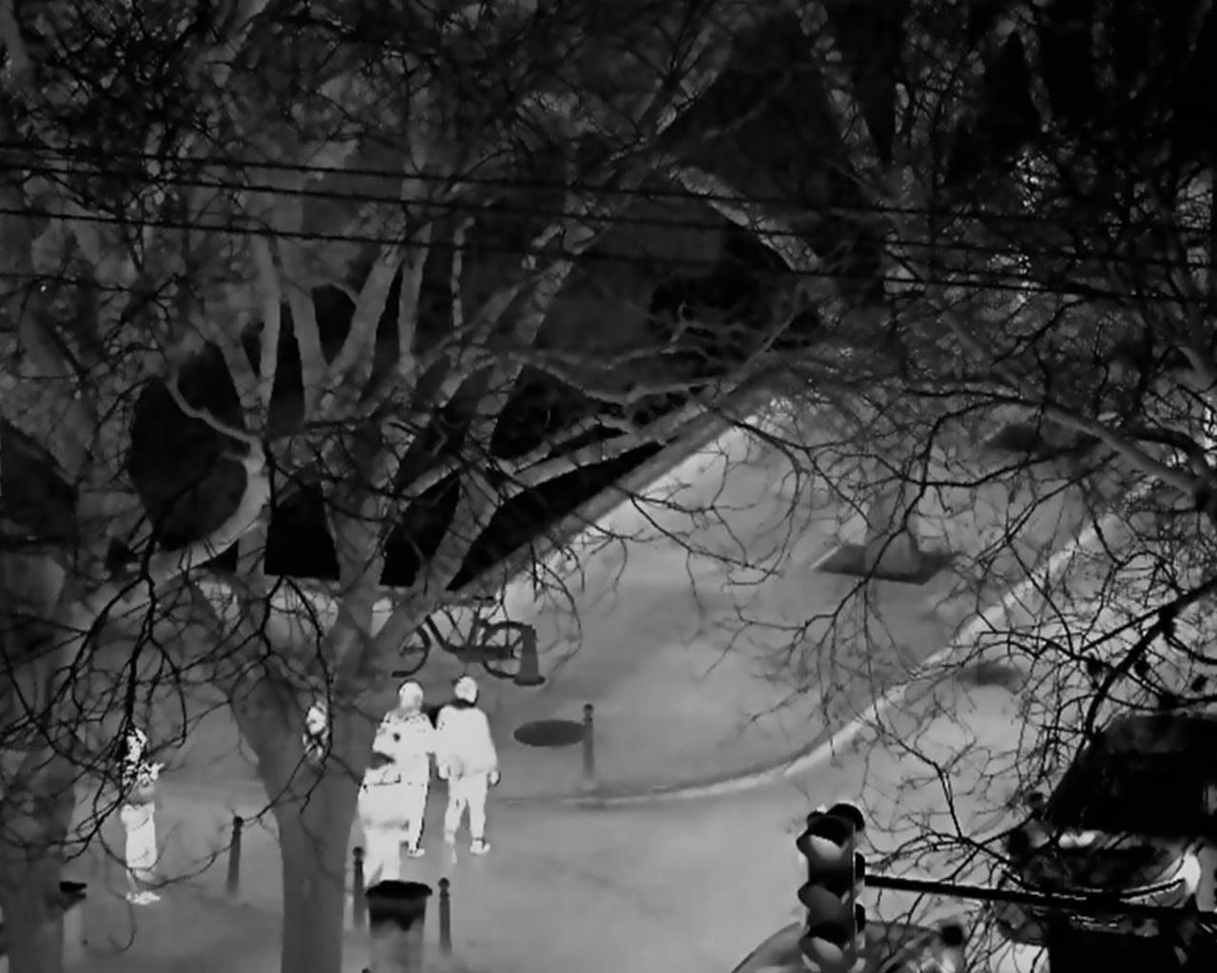person: (430, 676, 502, 865), (120, 724, 170, 906), (377, 681, 429, 855), (353, 728, 406, 882)
